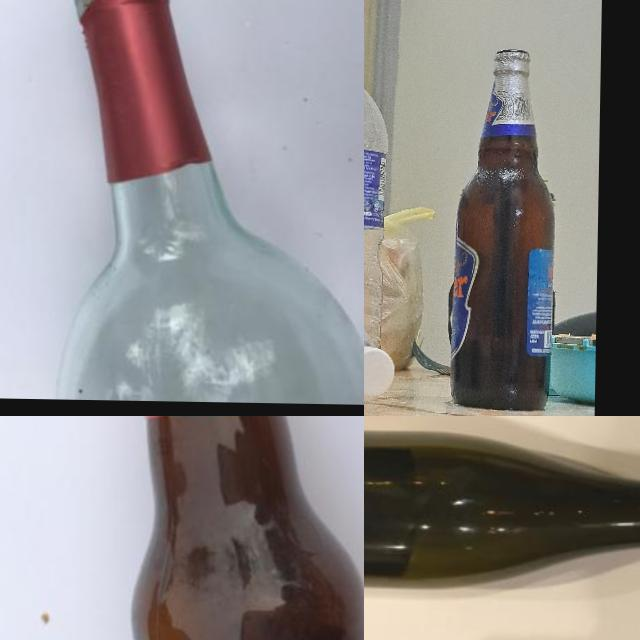garrafa de vidro: (57, 0, 364, 404), (125, 416, 364, 640), (364, 425, 640, 594), (450, 46, 557, 409)
garrafa plástica: (364, 45, 389, 349), (364, 313, 398, 411)
tampa plástica: (364, 340, 394, 395)
